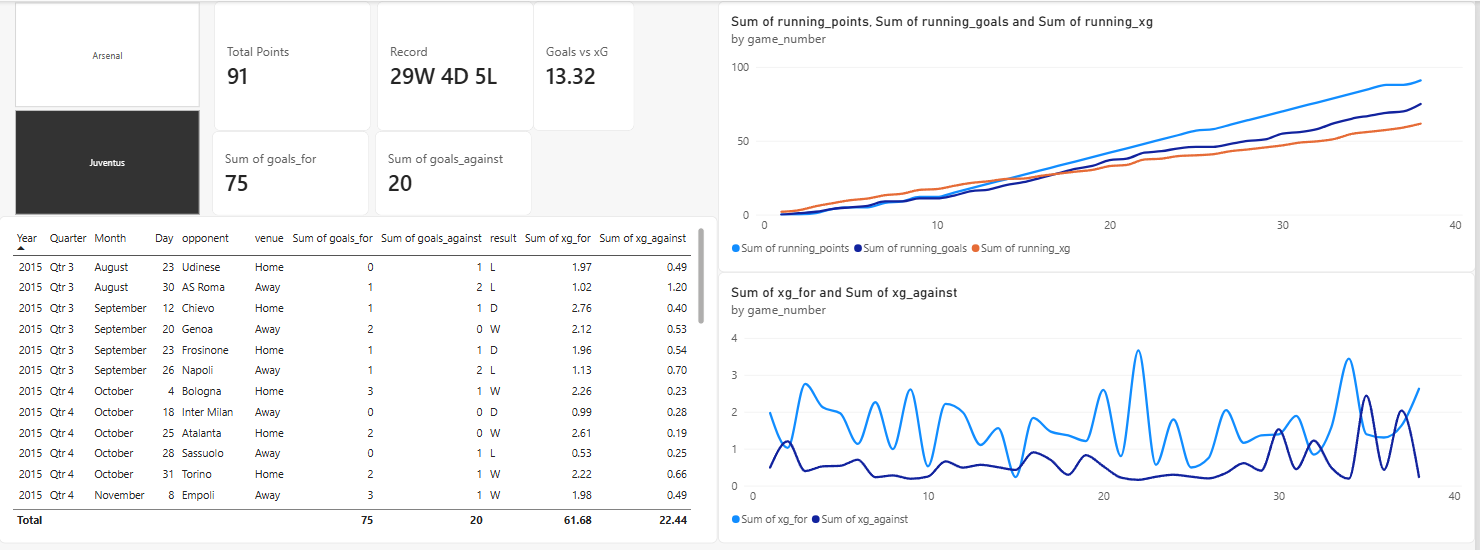

This screenshot's page, from the dashboard's own definition file:
{"tool":"powerbi","page":{"name":"Season Overview","canvas":[1920,1080],"ordinal":0},"visuals":[{"type":"slicer","fields":{"Values":["Teams.team"]},"box":[0,0,280,280],"z":0},{"type":"lineChart","fields":{"Category":["team_matches.game_number"],"Y":["Sum(team_matches.running_points)","Sum(team_matches.running_goals)","Sum(team_matches.running_xg)"]},"box":[935.2,0,986.3,353.1],"z":1000},{"type":"lineChart","fields":{"Category":["team_matches.game_number"],"Y":["Sum(team_matches.xg_for)","Sum(team_matches.xg_against)"]},"box":[935.2,353.1,984.8,353.1],"z":2000},{"type":"tableEx","fields":{"Values":["team_matches.match_date.Variation.Date Hierarchy.Year","team_matches.match_date.Variation.Date Hierarchy.Quarter","team_matches.match_date.Variation.Date Hierarchy.Month","team_matches.match_date.Variation.Date Hierarchy.Day","team_matches.opponent","team_matches.venue","Sum(team_matches.goals_for)","Sum(team_matches.goals_against)","team_matches.result","Sum(team_matches.xg_for)","Sum(team_matches.xg_against)"]},"box":[0,280.1,935.2,426],"z":3000},{"type":"cardVisual","fields":{"Data":["team_matches.Total Points","team_matches.Record"]},"box":[280.1,0,416.7,169.4],"z":4000},{"type":"cardVisual","fields":{"Data":["Sum(team_matches.goals_for)","Sum(team_matches.goals_against)"]},"box":[277.3,169.4,416.7,110.9],"z":5000},{"type":"cardVisual","fields":{"Data":["team_matches.Goals vs xG"]},"box":[694.5,0,132.8,169.2],"z":6000}]}

Visuals, with their boxes on the page's 1920x1080 design canvas (x1, y1, x2, y2). These are canvas units, not pixel positions in the 1480x550 screenshot, which may show the page scaled, cropped or inside an application window:
slicer - Teams.team: x1=0, y1=0, x2=280, y2=280
lineChart - team_matches.game_number x Sum(team_matches.running_points): x1=935, y1=0, x2=1922, y2=353
lineChart - team_matches.game_number x Sum(team_matches.xg_for): x1=935, y1=353, x2=1920, y2=706
tableEx - team_matches.match_date.Variation.Date Hierarchy.Year x team_matches.match_date.Variation.Date Hierarchy.Quarter: x1=0, y1=280, x2=935, y2=706
cardVisual - team_matches.Total Points x team_matches.Record: x1=280, y1=0, x2=697, y2=169
cardVisual - Sum(team_matches.goals_for) x Sum(team_matches.goals_against): x1=277, y1=169, x2=694, y2=280
cardVisual - team_matches.Goals vs xG: x1=694, y1=0, x2=827, y2=169
